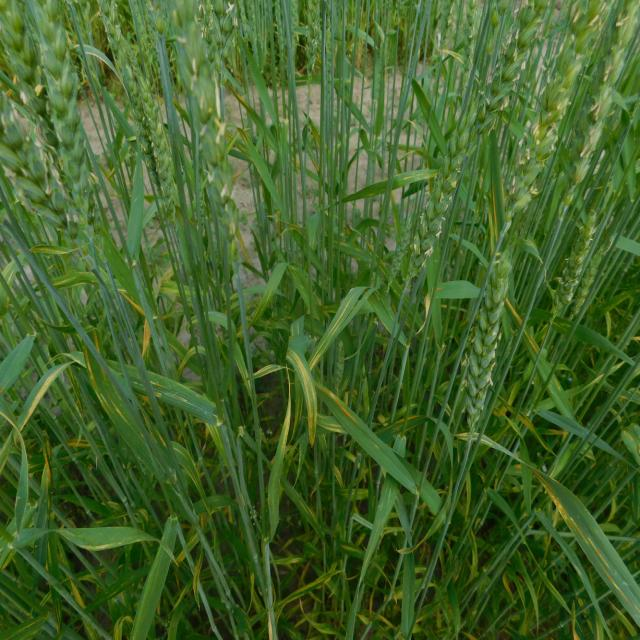wheat-yellowrust: (525, 466, 640, 627), (83, 347, 135, 449), (15, 366, 66, 433), (286, 347, 317, 432), (272, 370, 292, 484), (142, 318, 152, 359)
